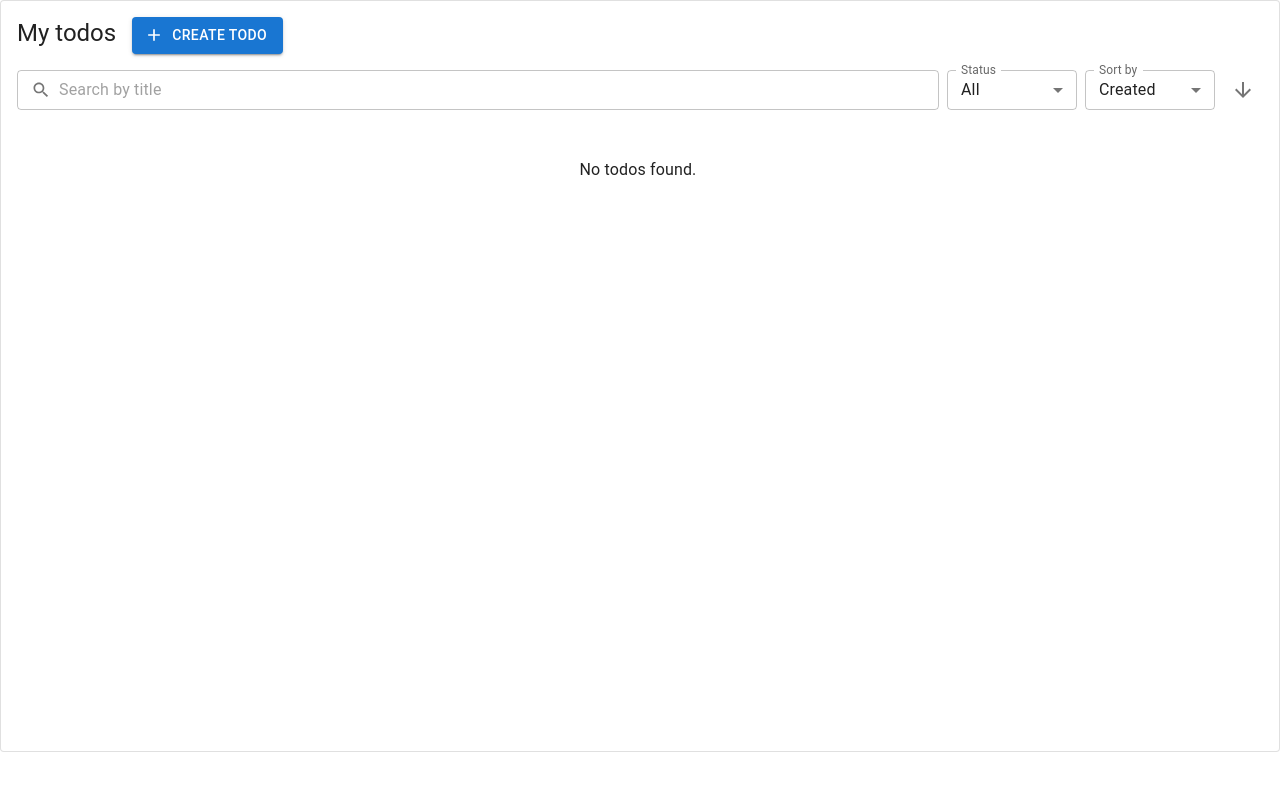
Test case: TodoComponent › status filter › lists all status options
Click the dropdown named "Status": point(970, 90) [961, 80, 980, 99]
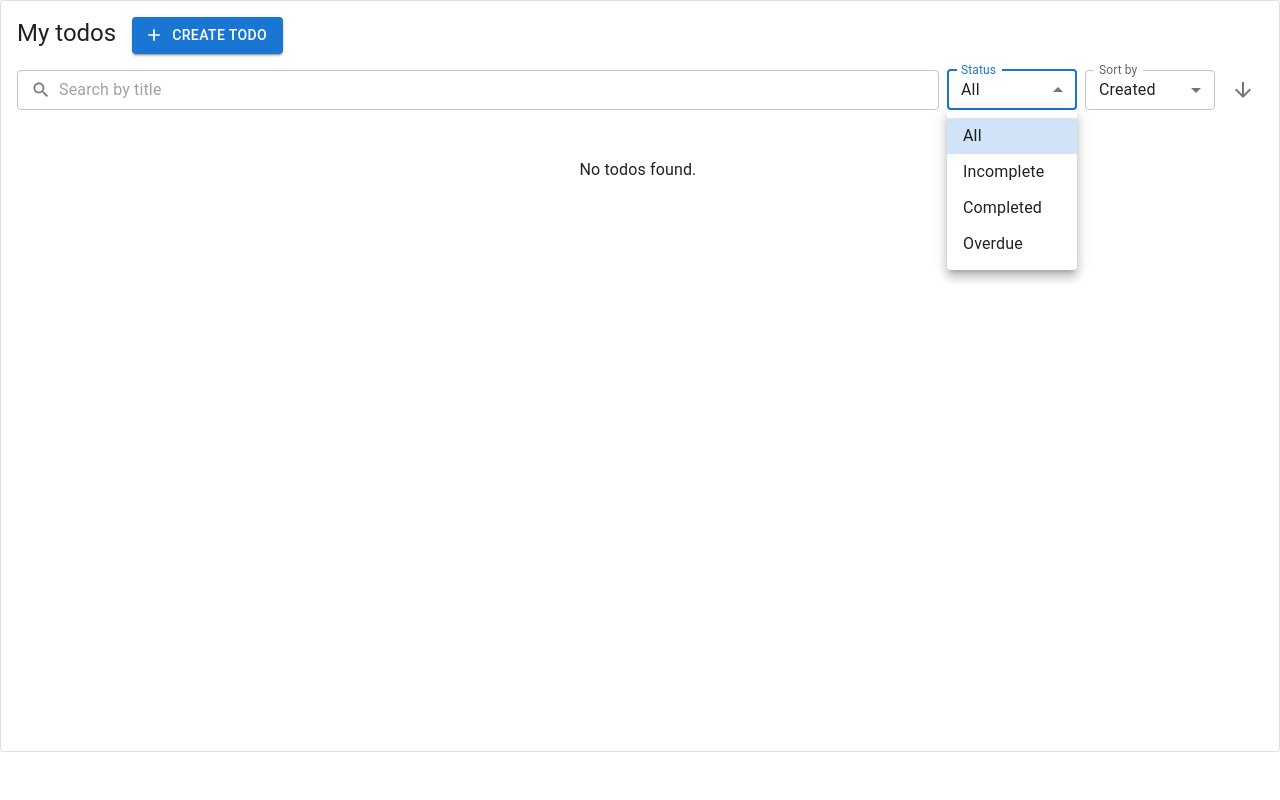
Now the options read "All", "Incomplete", "Completed", "Overdue", in this order, box [947, 118, 1077, 154]; [963, 162, 1044, 181]; [963, 198, 1042, 217]; [963, 234, 1023, 253]
